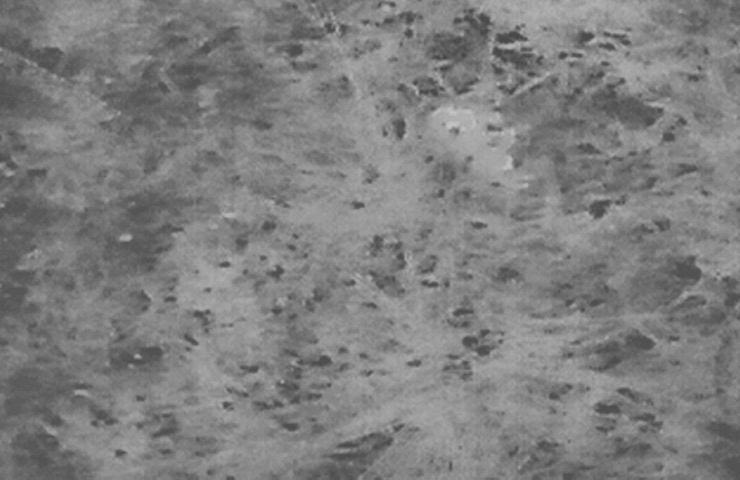landmines: (428, 99, 496, 159)
